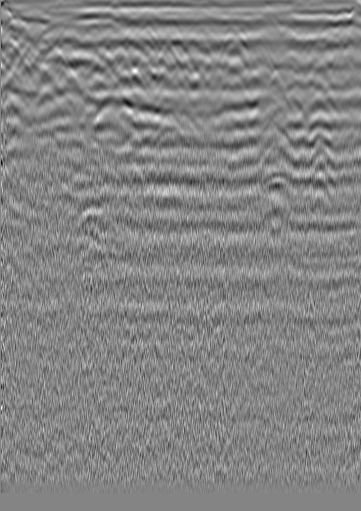가스: (262, 174, 295, 209)
상수: (18, 17, 38, 37)
오수: (313, 19, 333, 39)
우수: (154, 26, 174, 46)
